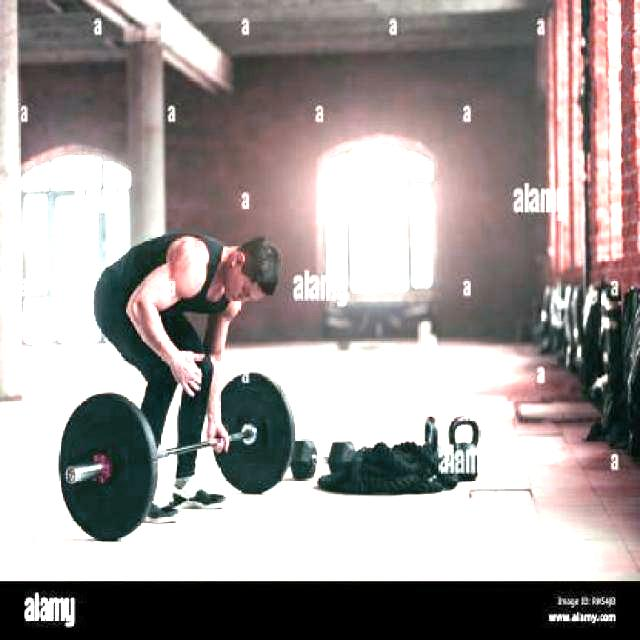barbell: (55, 390, 156, 545)
